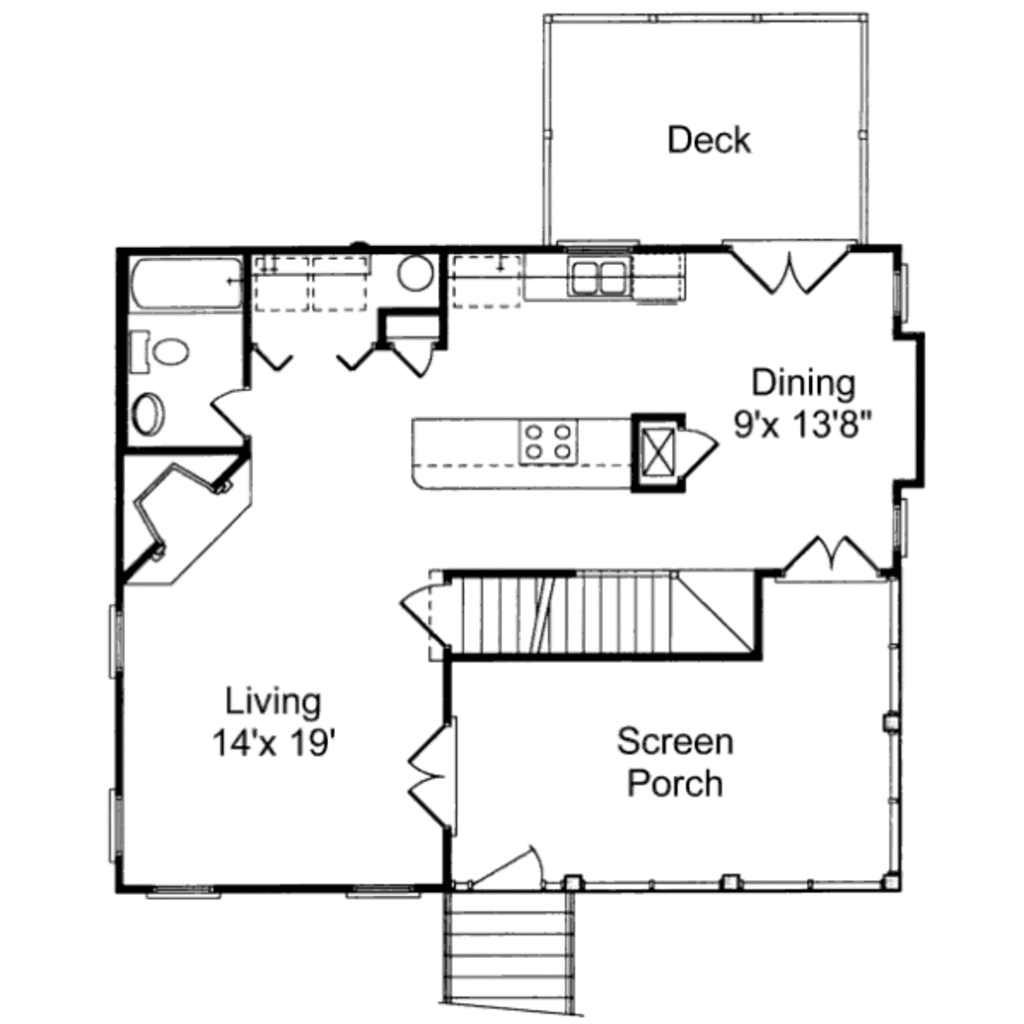door: (728, 236, 846, 294), (405, 722, 453, 826), (783, 529, 876, 574), (208, 387, 250, 441)
large_sink: (129, 323, 191, 378)
small_sink: (127, 380, 171, 441)
stairs: (443, 572, 689, 666), (448, 892, 574, 1020)
tub: (127, 256, 239, 312)
twin_sink: (561, 251, 640, 298)
windows: (105, 785, 129, 868), (105, 601, 127, 688)
